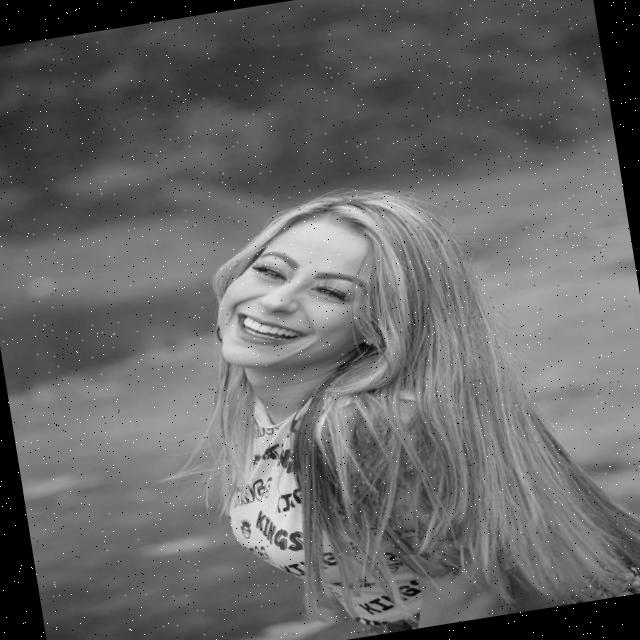Happiness: (202, 210, 386, 375)
